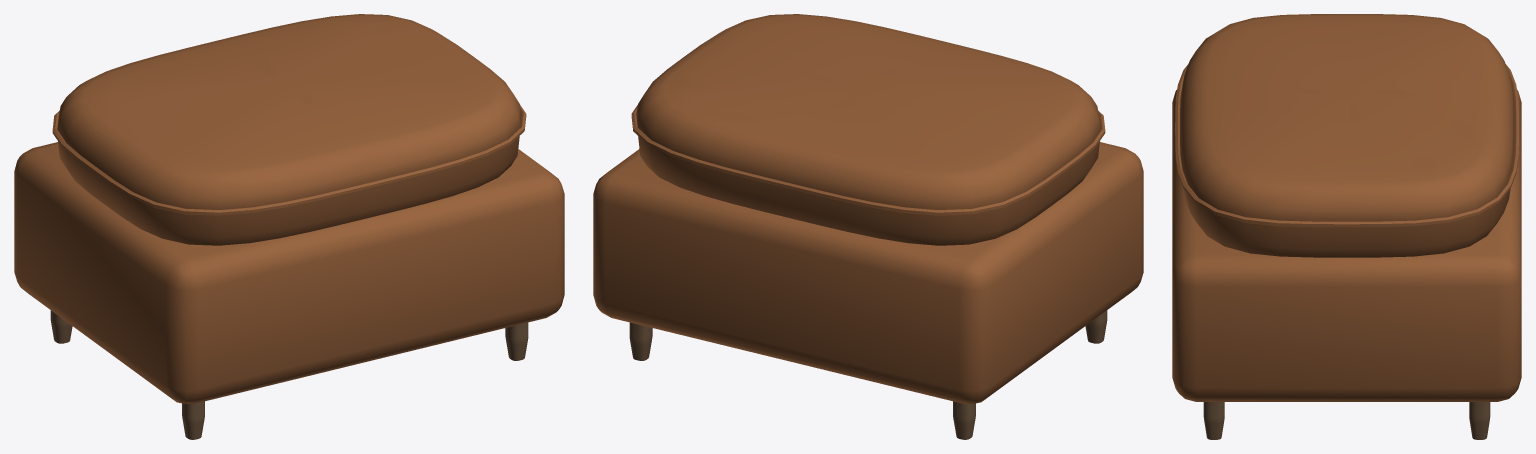
File: whiskey-ottoman-lod0.glb
3 views of the same model, side by side, from view 1: azimuth 30°, elevation 25°; view 2: azimuth 150°, elevation 25°; view 3: azimuth 270°, elevation 25° (orthographic).
Visible parts, largest first — view 1: whiskey-ottoman.lod0__whiskey cognac leather, whiskey-ottoman.lod0__dining smoked oak; view 2: whiskey-ottoman.lod0__whiskey cognac leather, whiskey-ottoman.lod0__dining smoked oak; view 3: whiskey-ottoman.lod0__whiskey cognac leather, whiskey-ottoman.lod0__dining smoked oak.
Part boxes in pixels (x1=…): whiskey-ottoman.lod0__whiskey cognac leather: x1=14, y1=14, x2=564, y2=404; whiskey-ottoman.lod0__dining smoked oak: x1=50, y1=310, x2=528, y2=439; whiskey-ottoman.lod0__whiskey cognac leather: x1=593, y1=14, x2=1143, y2=404; whiskey-ottoman.lod0__dining smoked oak: x1=629, y1=310, x2=1107, y2=439; whiskey-ottoman.lod0__whiskey cognac leather: x1=1172, y1=14, x2=1521, y2=401; whiskey-ottoman.lod0__dining smoked oak: x1=1203, y1=402, x2=1490, y2=439.
Size of the model in its own units: 0.66 by 0.42 by 0.5.
